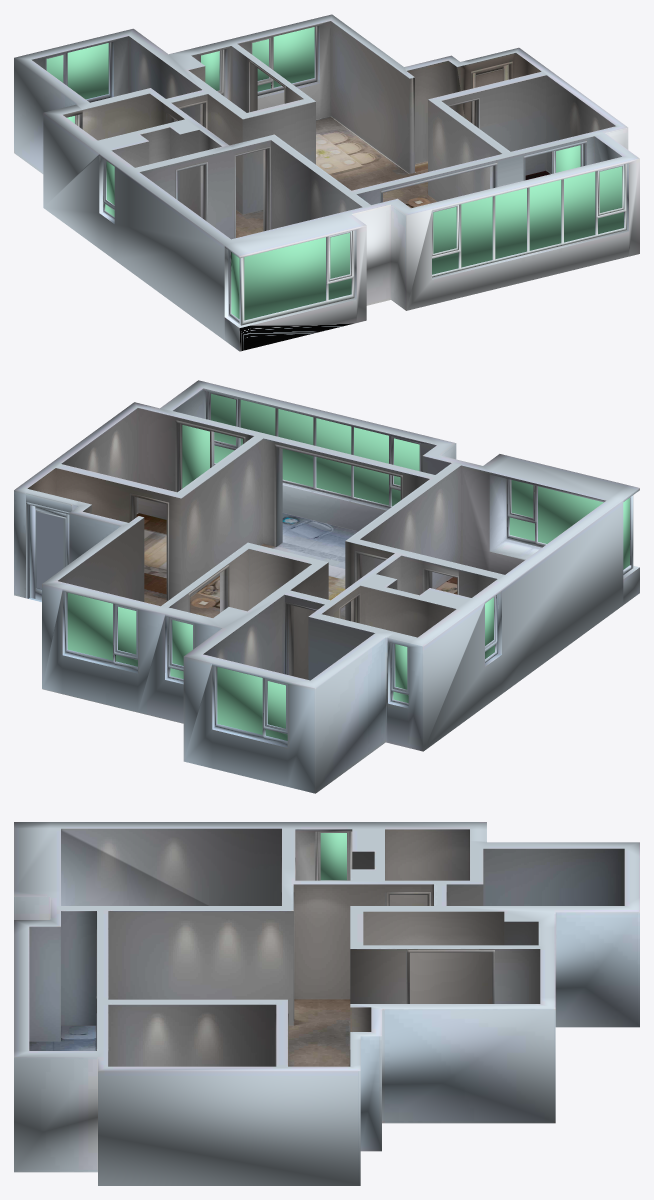
The model's file is room.gltf.
The picture shows the model from 3 angles, top to bottom: view 1: azimuth 30°, elevation 25°; view 2: azimuth 150°, elevation 25°; view 3: azimuth 270°, elevation 25°; orthographic projection. The views are drawn at different scales.
Visible parts, largest first — view 1: WD_QS_00, WD_GLASS, WD_QS_09, WD_QS_03, WD_QS_06, WD_QS_04, WD_QS_02, WD_QS_01, WD_QS_05, WD_QS_07; view 2: WD_QS_00, WD_GLASS, WD_QS_09, WD_QS_03, WD_QS_06, WD_QS_05, WD_QS_02, WD_QS_04, WD_QS_01, WD_QS_07; view 3: WD_QS_00, WD_QS_09, WD_QS_03, WD_QS_06, WD_QS_07, WD_QS_05, WD_QS_02, WD_QS_04, WD_QS_01, WD_GLASS.
Part boxes in pixels (box(x1,y1,x2,y2)): WD_QS_00: box(14, 14, 639, 351); WD_GLASS: box(46, 27, 623, 320); WD_QS_09: box(171, 21, 541, 214); WD_QS_03: box(139, 140, 362, 327); WD_QS_06: box(441, 61, 615, 180); WD_QS_04: box(63, 93, 221, 223); WD_QS_02: box(356, 136, 628, 279); WD_QS_01: box(236, 116, 550, 237); WD_QS_05: box(31, 36, 207, 128); WD_QS_07: box(188, 26, 317, 112); WD_QS_00: box(14, 380, 639, 793); WD_GLASS: box(67, 393, 629, 740); WD_QS_09: box(27, 438, 429, 679); WD_QS_03: box(355, 465, 639, 589); WD_QS_06: box(26, 408, 253, 600); WD_QS_05: box(203, 594, 374, 747); WD_QS_02: box(173, 388, 451, 546); WD_QS_04: box(322, 555, 501, 708); WD_QS_01: box(28, 513, 457, 619); WD_QS_07: box(64, 549, 311, 684); WD_QS_00: box(14, 822, 639, 1185); WD_QS_09: box(108, 884, 540, 1031); WD_QS_03: box(61, 828, 294, 1019); WD_QS_06: box(96, 1004, 350, 1066); WD_QS_07: box(363, 911, 538, 1003); WD_QS_05: box(433, 848, 624, 905); WD_QS_02: box(29, 911, 108, 1041); WD_QS_04: box(281, 829, 469, 905); WD_QS_01: box(29, 999, 350, 1066); WD_GLASS: box(320, 833, 346, 880).
Size of the model in its own units: 283 by 60.96 by 301.
10 materials, 9 textured.
